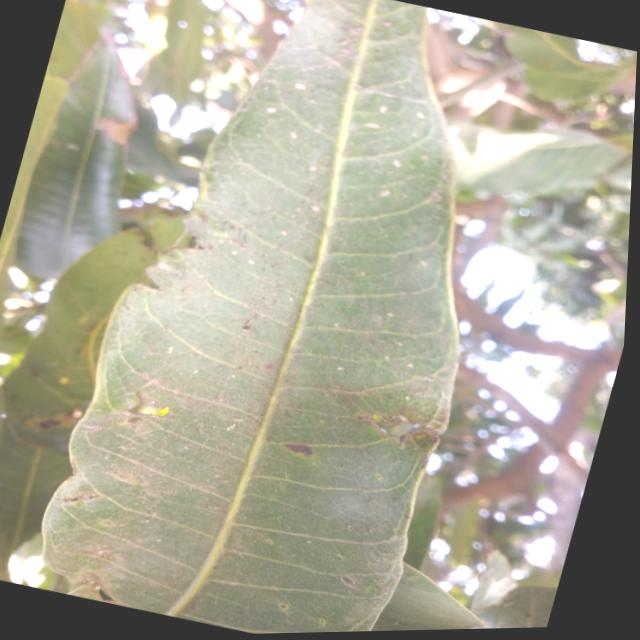Anthracnose: (280, 435, 322, 462), (239, 320, 256, 332)
Bacterial Cancer: (359, 390, 449, 465), (109, 384, 179, 441), (171, 212, 233, 273)
Powdery Mildew: (283, 439, 315, 458), (337, 569, 360, 591), (262, 101, 285, 118), (305, 161, 321, 176), (294, 81, 308, 93), (392, 157, 404, 170), (265, 104, 278, 116), (364, 121, 381, 130), (287, 129, 298, 140), (377, 104, 389, 114), (416, 110, 427, 120), (307, 163, 317, 172), (312, 203, 321, 212), (380, 189, 390, 196), (420, 259, 428, 267), (406, 360, 414, 368), (387, 310, 395, 318), (281, 229, 289, 236), (248, 258, 256, 265), (360, 270, 367, 277), (167, 346, 173, 354), (338, 366, 344, 370)
